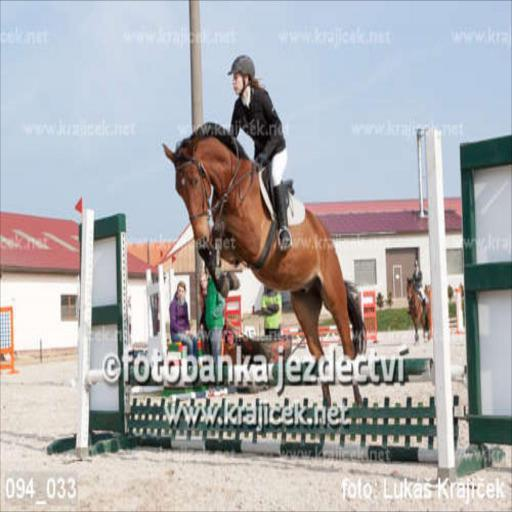horse: (160, 121, 368, 409), (404, 274, 428, 346)
